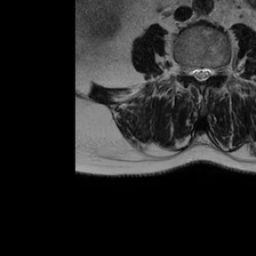CCS_stenosis: (198, 60, 205, 89)
LFS_normal: (213, 58, 222, 83)
LLS_normal: (205, 60, 213, 87)
RFS_normal: (183, 56, 190, 80)
RLS_normal: (190, 59, 198, 84)
